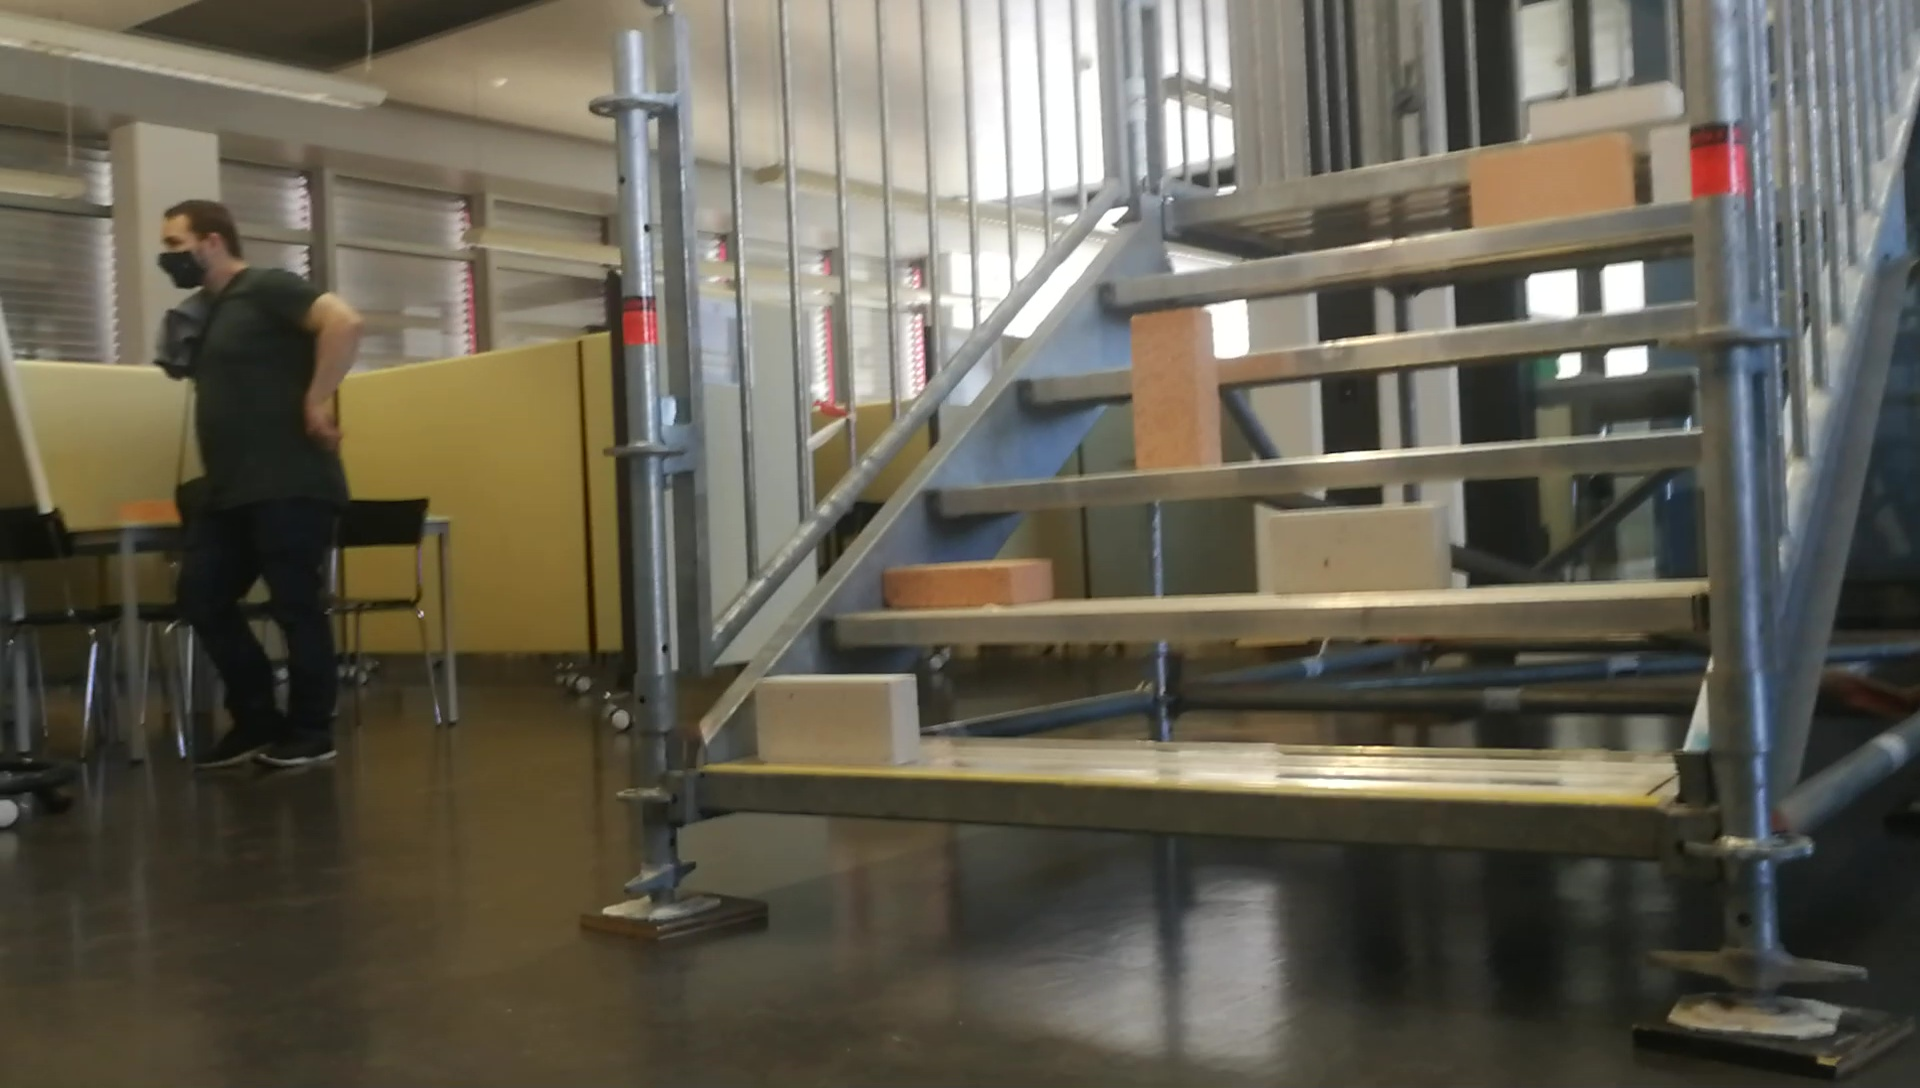brick: (1265, 502, 1447, 591), (756, 673, 918, 765), (1131, 310, 1220, 472), (1470, 138, 1633, 223), (1527, 83, 1677, 131), (885, 560, 1050, 603), (1652, 125, 1689, 204)
edge: (700, 771, 1660, 860), (1015, 307, 1713, 401), (915, 433, 1716, 510), (1095, 200, 1695, 299), (818, 595, 1708, 636)
stairs: (583, 7, 1791, 1041)
